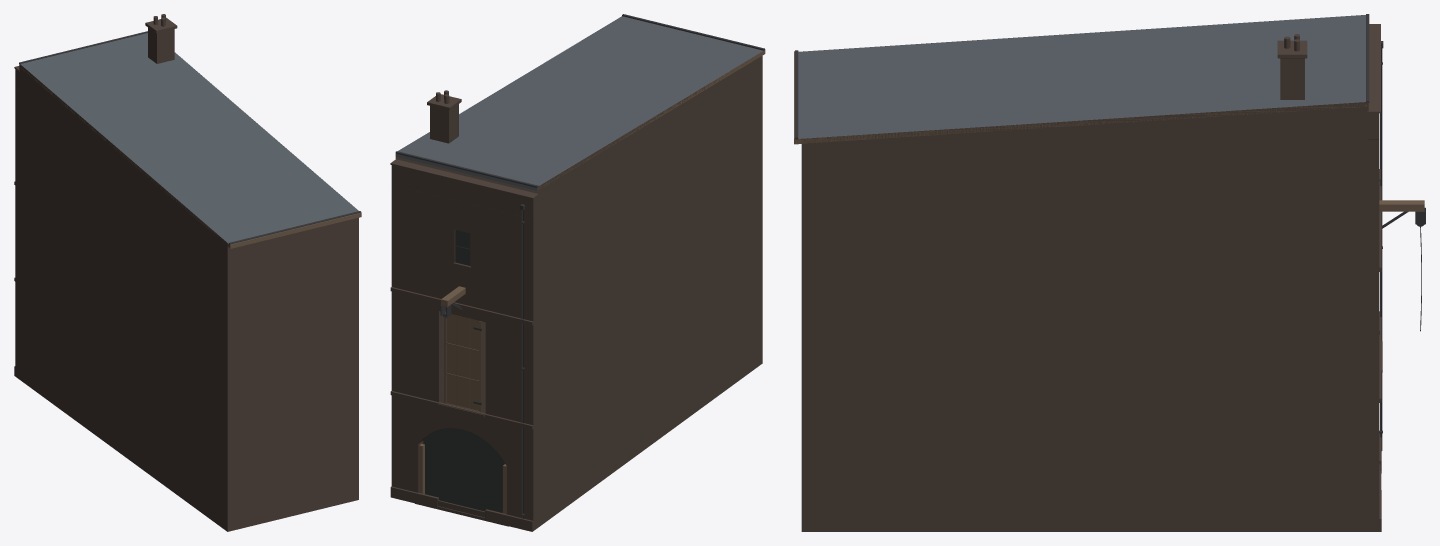
Rendered from terrace2-3.glb.
The picture shows the model from 3 angles, left to right: view 1: azimuth 30°, elevation 25°; view 2: azimuth 150°, elevation 25°; view 3: azimuth 270°, elevation 25°; orthographic projection. The views are drawn at different scales.
Parts seen in each view (by area): view 1: terrace2-3; view 2: terrace2-3; view 3: terrace2-3.
Part boxes in pixels (x1,y1,x2,y2): terrace2-3: (14,14,361,531); terrace2-3: (390,14,765,531); terrace2-3: (794,14,1425,531).
Bounding box in the file's own units: 5.03 × 12.93 × 15.31.
